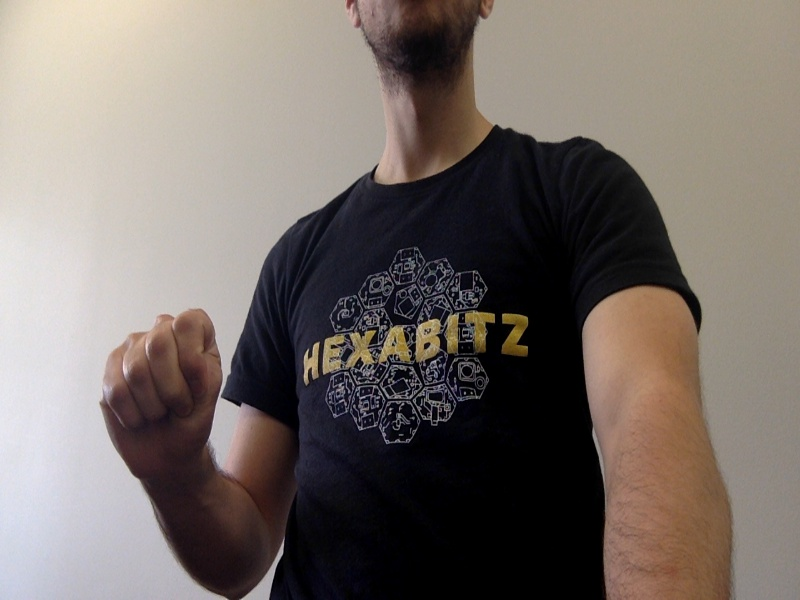0-hand: (98, 310, 221, 459)
